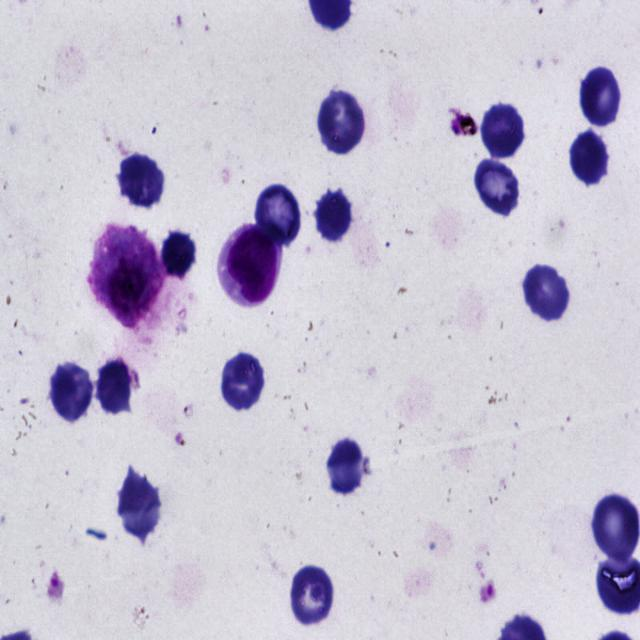leukocyte: (90, 226, 164, 328), (217, 225, 284, 308)
red blood cell: (317, 91, 368, 158), (592, 492, 640, 561), (255, 182, 302, 245), (117, 474, 163, 538), (48, 363, 94, 424), (522, 263, 570, 321), (290, 563, 334, 625), (119, 153, 165, 209), (221, 352, 264, 410), (579, 68, 621, 127), (482, 102, 526, 158), (474, 160, 518, 216), (325, 440, 368, 496), (314, 188, 356, 242), (570, 131, 611, 185), (96, 358, 134, 414), (161, 228, 199, 279)
